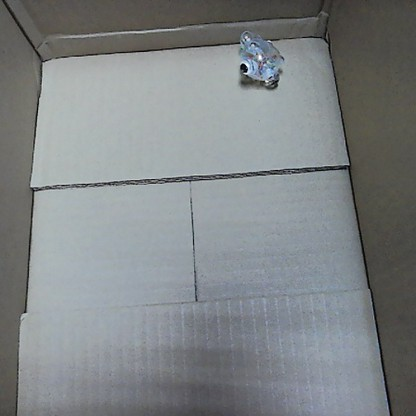whitefish: (231, 25, 288, 90)
